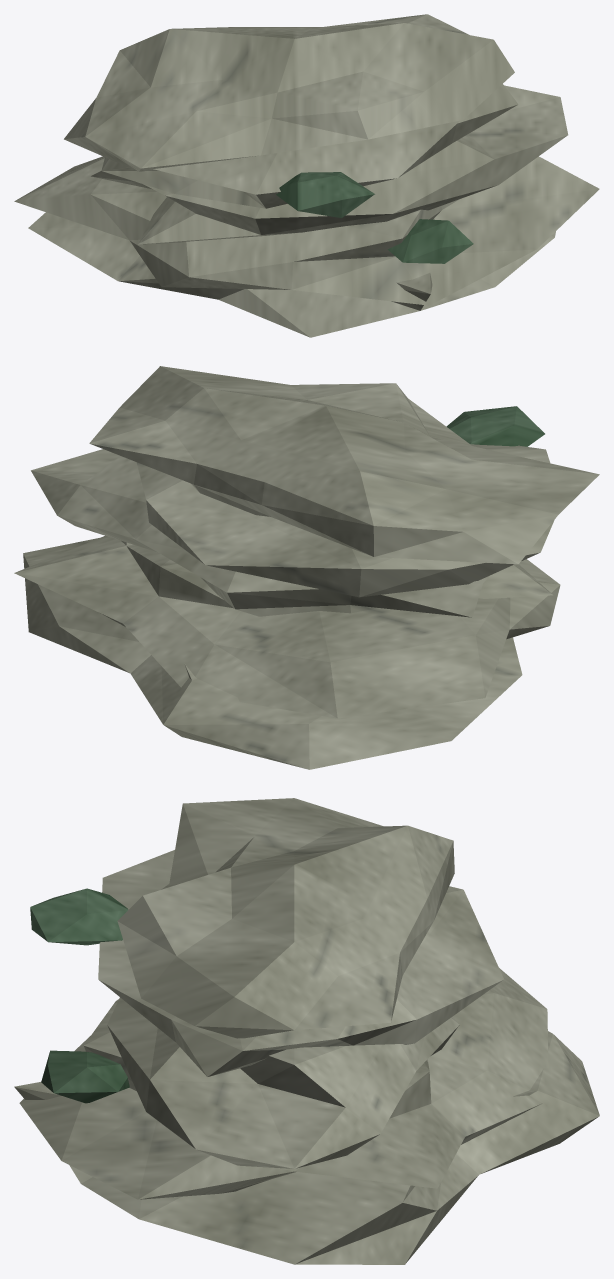
Rendered from 0030_layered_rock_05.glb.
The picture shows the model from 3 angles, top to bottom: view 1: azimuth 30°, elevation 25°; view 2: azimuth 150°, elevation 25°; view 3: azimuth 270°, elevation 25°; orthographic projection. The views are drawn at different scales.
Parts seen in each view (by area): view 1: stone_light, moss; view 2: stone_light, moss; view 3: stone_light, moss.
Part boxes in pixels (bbox=[...]): stone_light: bbox=[14, 14, 599, 337]; moss: bbox=[276, 172, 473, 263]; stone_light: bbox=[14, 366, 599, 769]; moss: bbox=[446, 406, 544, 446]; stone_light: bbox=[14, 798, 599, 1264]; moss: bbox=[30, 888, 129, 1103].
Size of the model in its own units: 2.05 by 0.9643 by 1.78.
2 materials, 2 textured.
